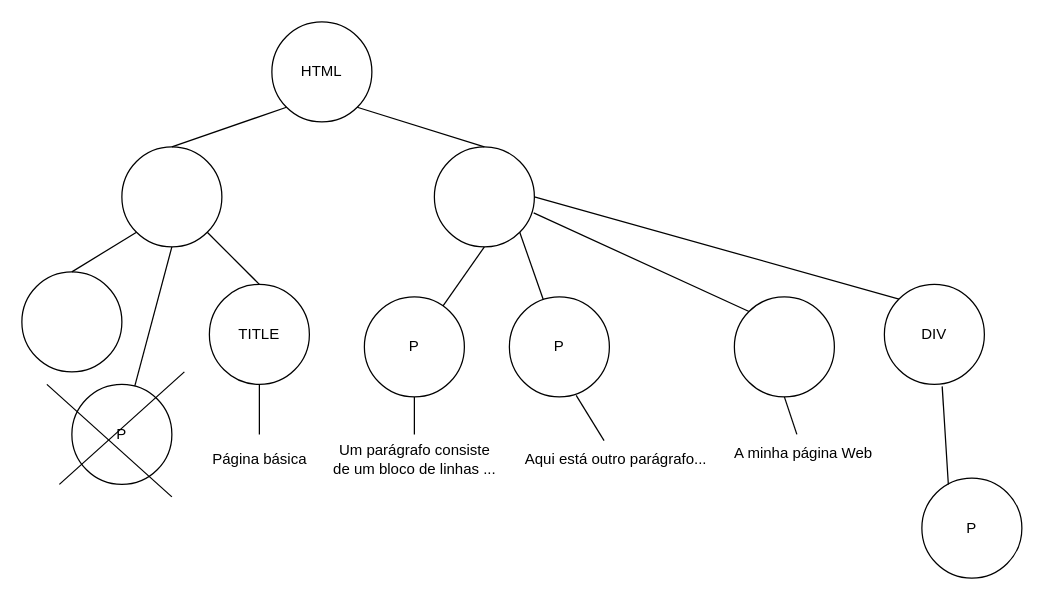
Image size: 1044x600. Some labels were removed from this diagram. Each missing label, with the box of its shape:
BODY: (433, 146, 534, 247)
H1: (733, 296, 834, 397)
HEAD: (121, 146, 222, 247)
STYLE: (21, 271, 122, 372)
